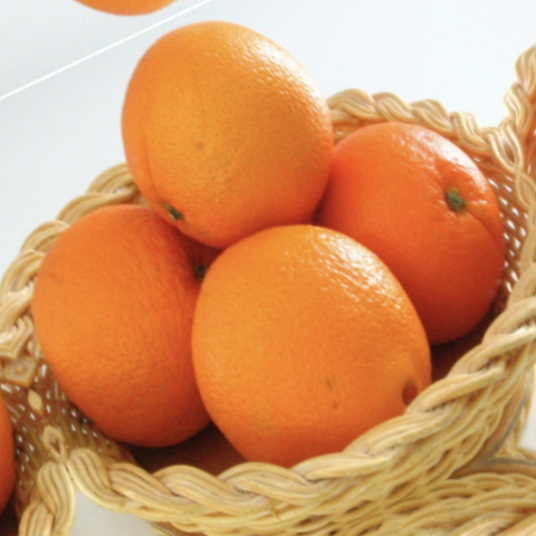orange: (130, 155, 487, 530), (0, 166, 279, 484), (66, 0, 361, 271), (273, 71, 536, 345)
